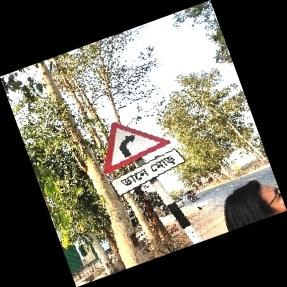Right-turn: (103, 122, 185, 196)
